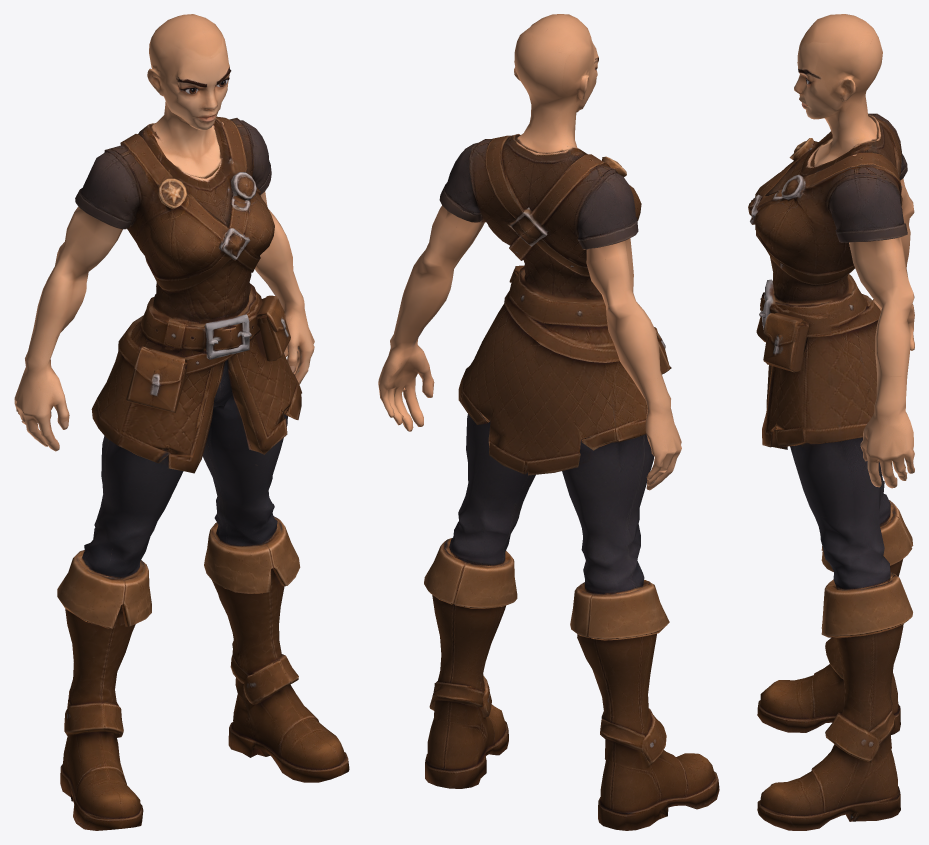
File: meshy-basis.glb
3 renders of one model, left to right at view 1: azimuth 30°, elevation 25°; view 2: azimuth 150°, elevation 25°; view 3: azimuth 270°, elevation 25°, orthographic. The views are drawn at different scales.
Bounding box in the file's own units: 0.3823 × 0.9517 × 0.1914.
Materials: 1 (1 with a texture image).
